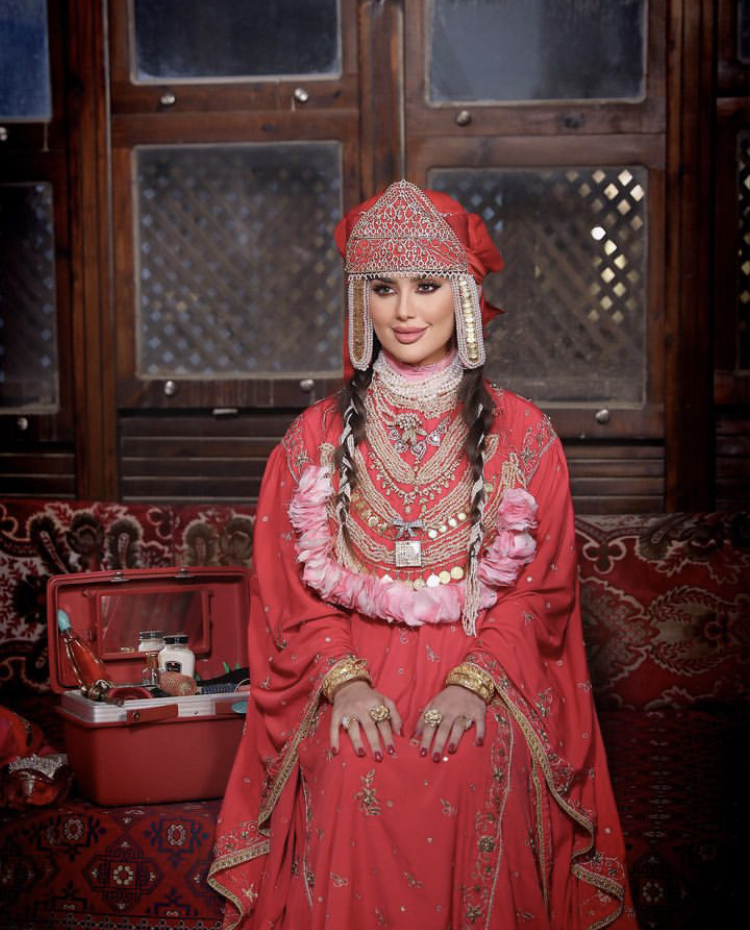Saudi_Founding_Day: (198, 168, 642, 926)
